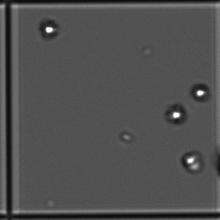Living Cell: (37, 18, 63, 48), (179, 150, 206, 176), (161, 103, 187, 124), (188, 82, 208, 106)
